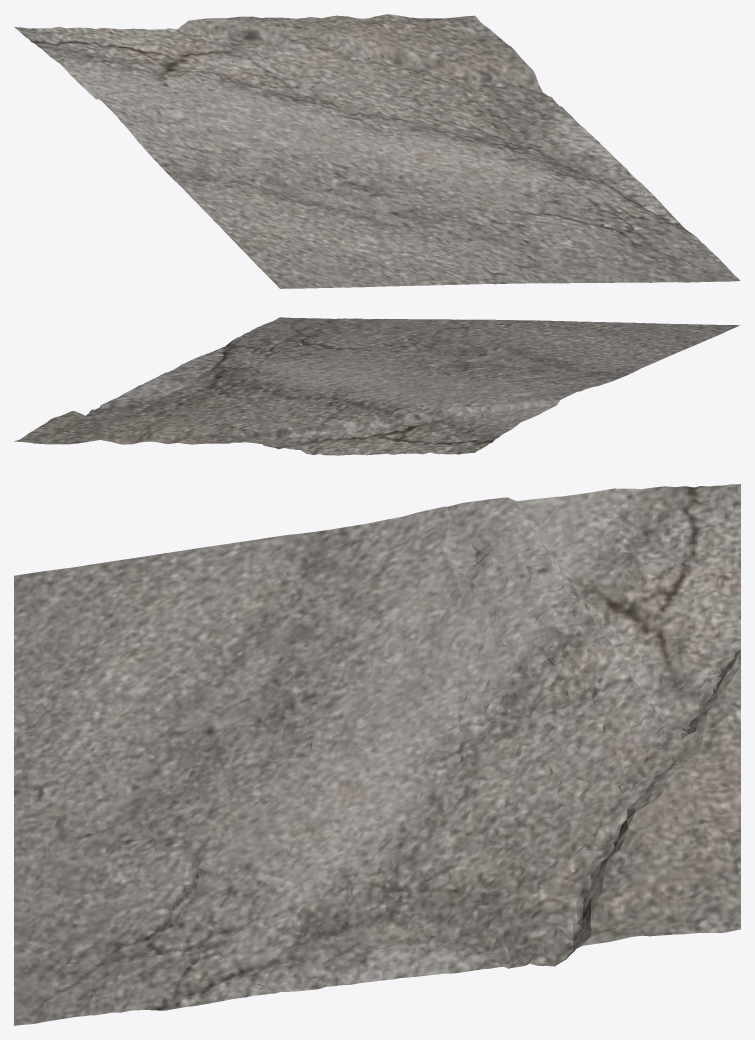
3 renders of one model, top to bottom at view 1: azimuth 30°, elevation 25°; view 2: azimuth 150°, elevation 25°; view 3: azimuth 270°, elevation 25°, orthographic. The views are drawn at different scales.
Bounding box in the file's own units: 1.67 × 0.5964 × 1.67.
3 materials, 3 textured.
